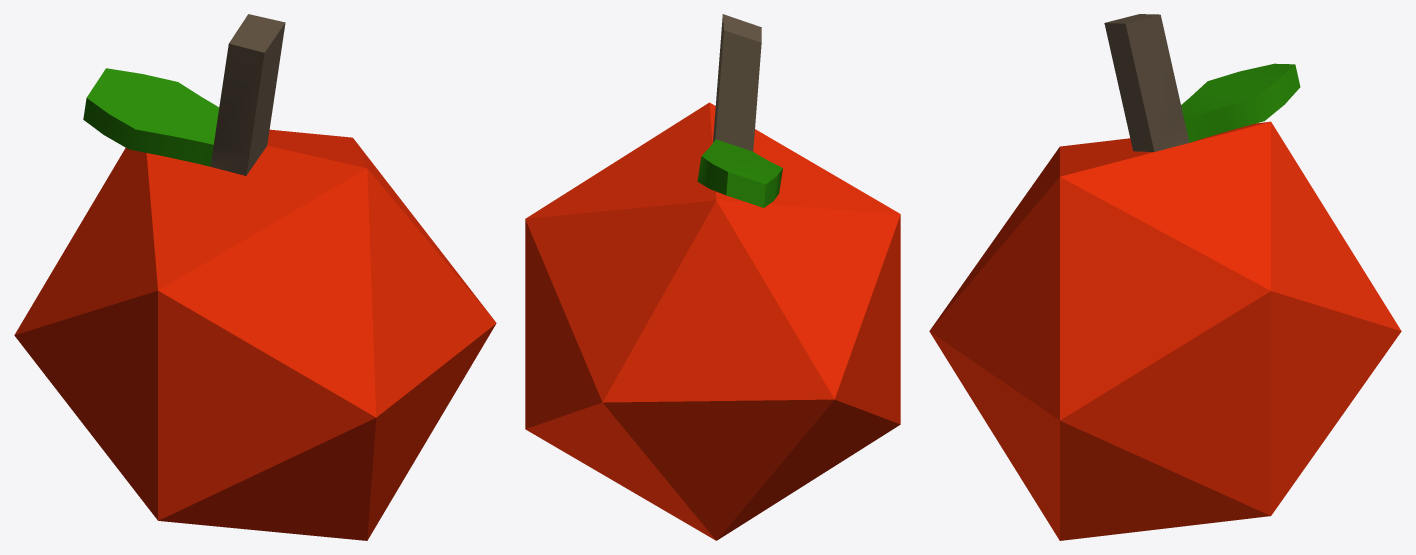
The model's file is RedFruit.fbx.
3 renders of one model, left to right at view 1: azimuth 30°, elevation 25°; view 2: azimuth 150°, elevation 25°; view 3: azimuth 270°, elevation 25°, orthographic. The views are drawn at different scales.
Parts seen in each view (by area): view 1: pPlatonic1, pPlatonic1.002, pPlatonic1.001; view 2: pPlatonic1, pPlatonic1.001, pPlatonic1.002; view 3: pPlatonic1, pPlatonic1.001, pPlatonic1.002.
Boxes of the visible parts, box(x1,y1,x2,y2) form: pPlatonic1: box(14, 129, 496, 540); pPlatonic1.002: box(83, 68, 219, 166); pPlatonic1.001: box(210, 14, 285, 175); pPlatonic1: box(525, 102, 900, 540); pPlatonic1.001: box(713, 14, 761, 151); pPlatonic1.002: box(697, 139, 782, 207); pPlatonic1: box(929, 121, 1401, 540); pPlatonic1.001: box(1104, 14, 1189, 151); pPlatonic1.002: box(1181, 63, 1300, 142).
Bounding box in the file's own units: 52.15 × 67.32 × 58.31.
